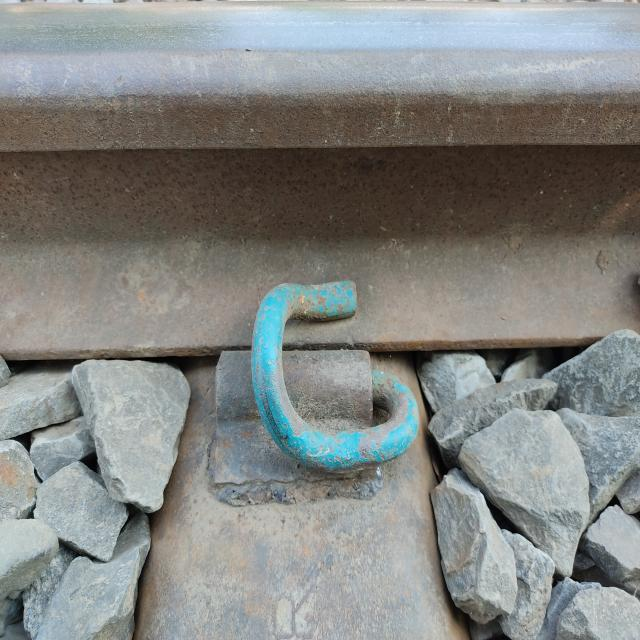track_bolt: (243, 273, 426, 486)
